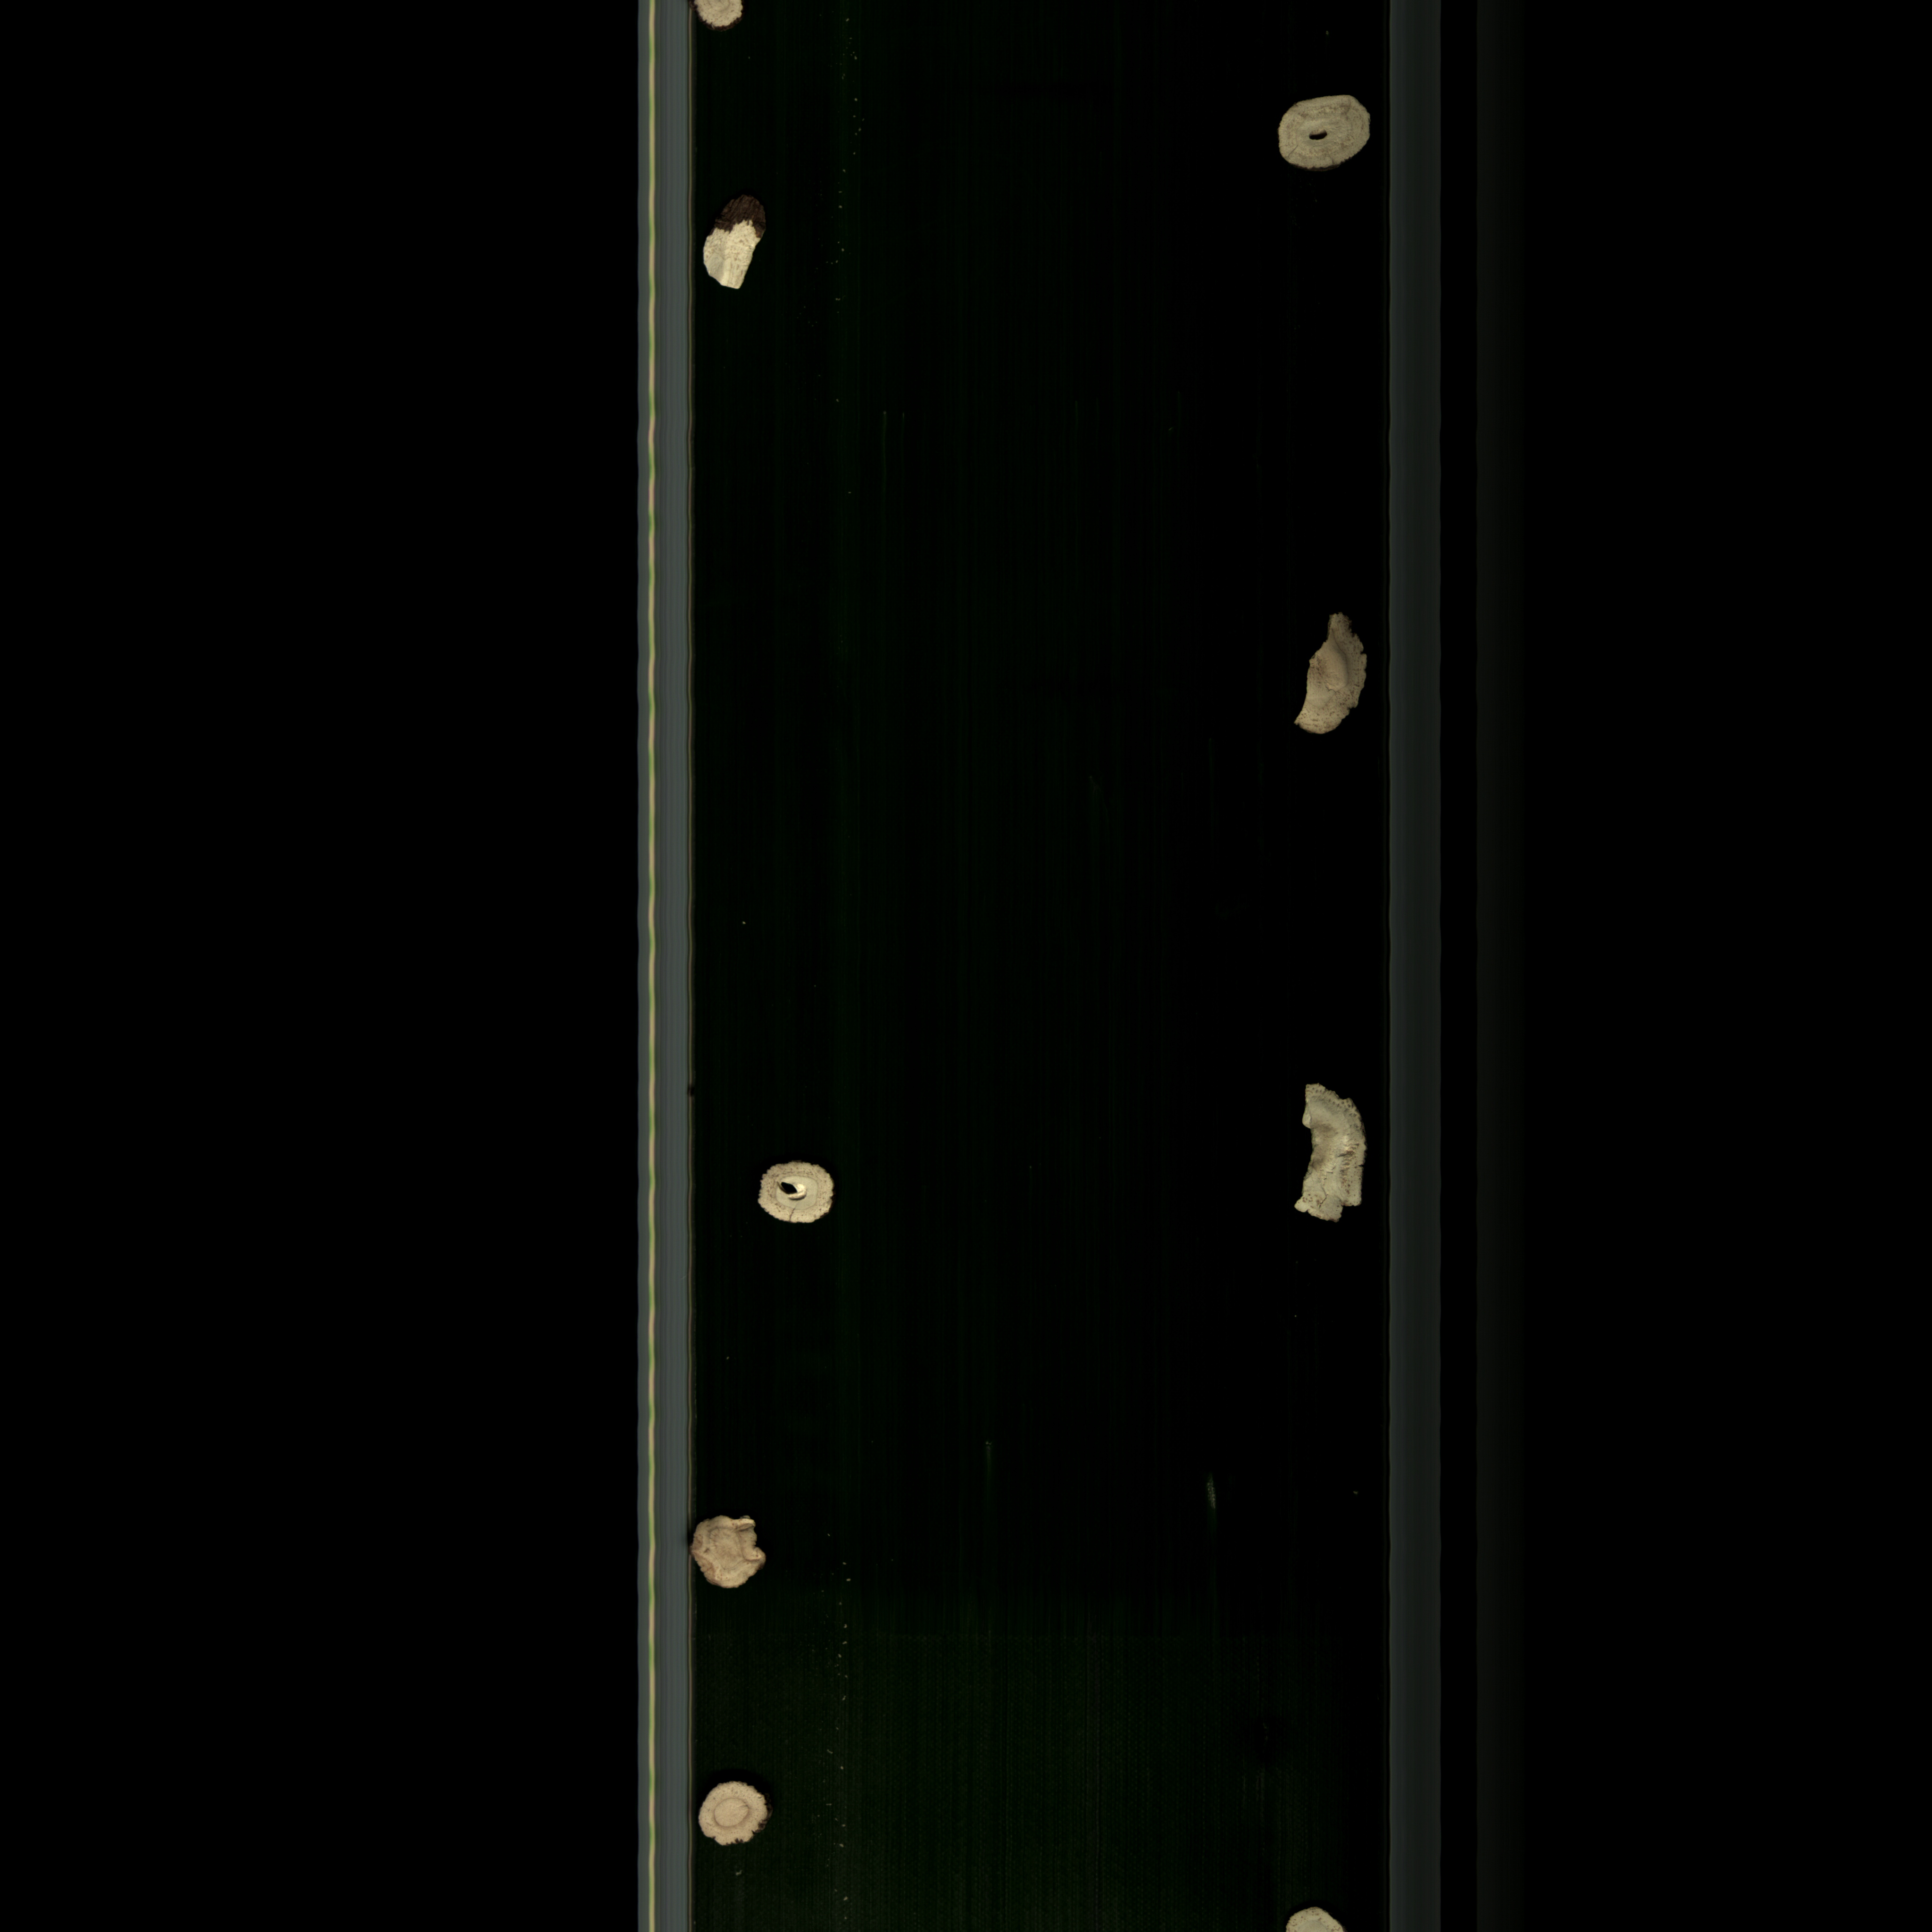debris: (1286, 1070, 1382, 1237)
distortion: (695, 1773, 775, 1852)
dreg: (699, 211, 771, 306)
hole: (1256, 83, 1378, 179), (752, 1152, 842, 1246)
moldy: (1292, 598, 1375, 741), (681, 1507, 787, 1603)
